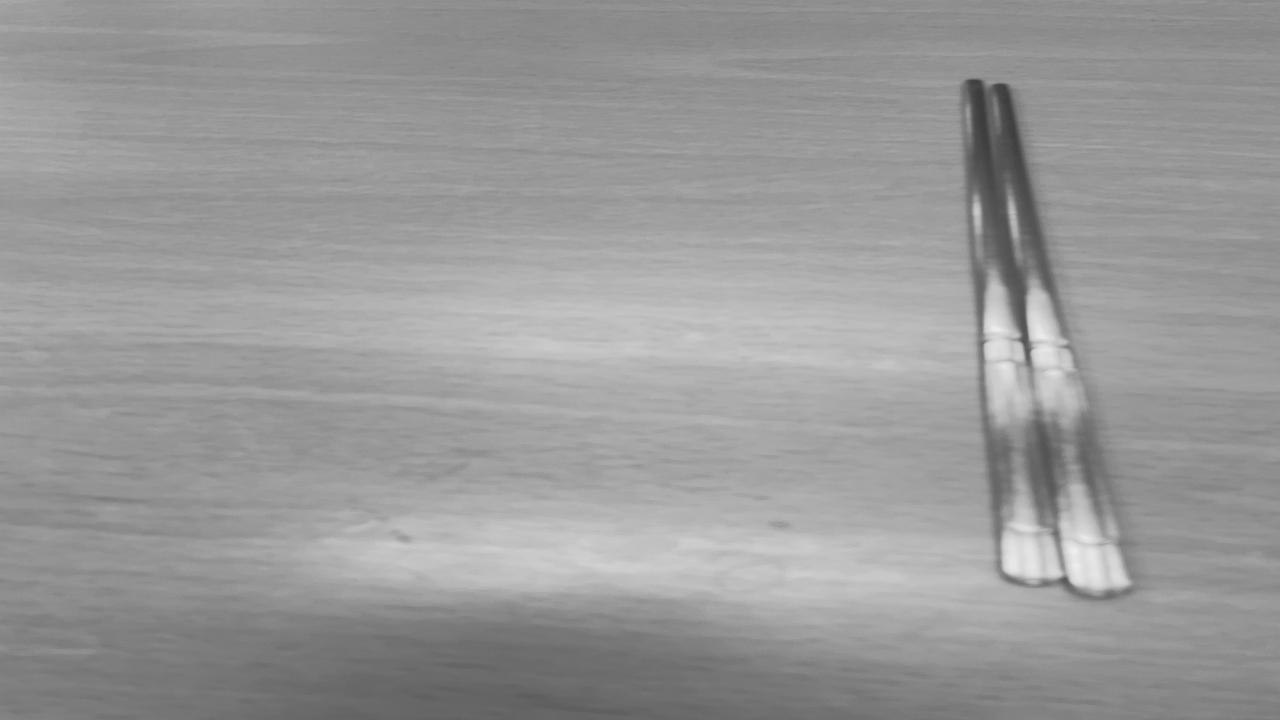chopstick: (965, 78, 1128, 593)
